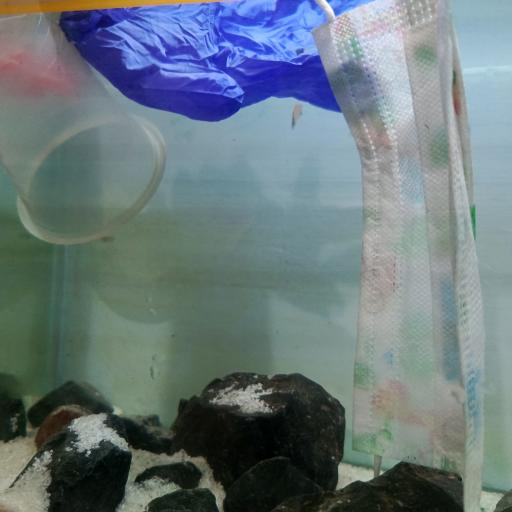glove: (62, 0, 346, 122)
mask: (310, 0, 482, 509)
plastic_cup: (0, 16, 170, 244)
plastic_straw: (0, 0, 188, 19)
